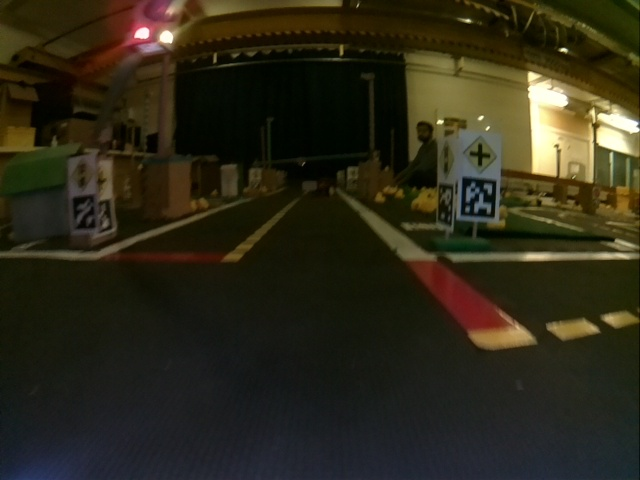Duckie: (421, 191, 435, 206), (199, 198, 208, 209), (375, 193, 385, 202), (396, 189, 405, 199)
Intersection sign: (463, 136, 498, 174)
QR code: (462, 178, 498, 220), (70, 195, 93, 229), (437, 182, 454, 228), (96, 200, 113, 232)
Signal sign: (69, 156, 95, 193), (438, 138, 456, 181)
